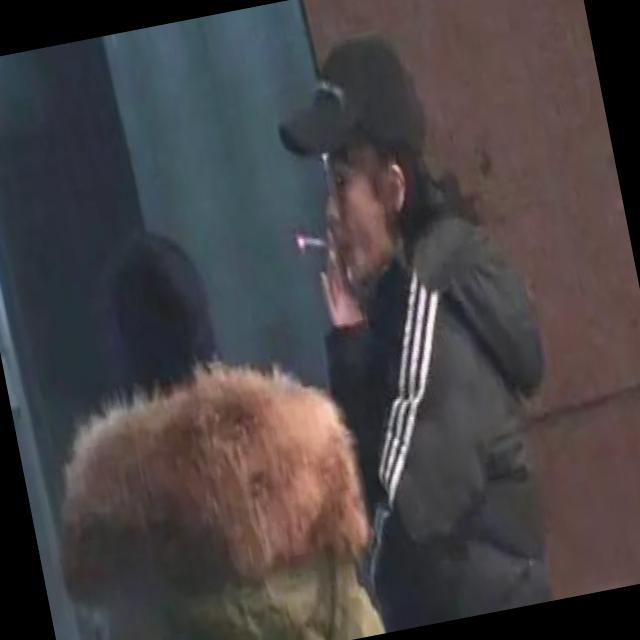cigarette: (287, 216, 346, 275)
